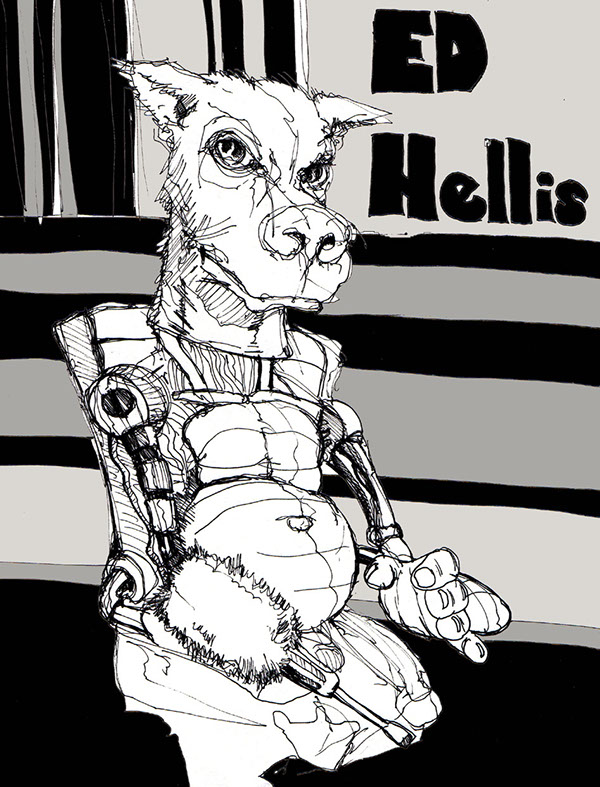dog: (51, 51, 522, 780)
